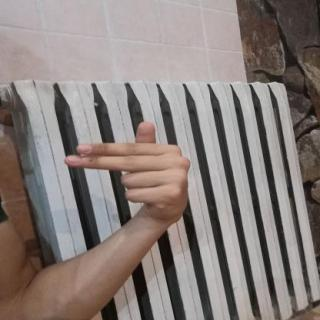GHAYN: (56, 115, 198, 229)
